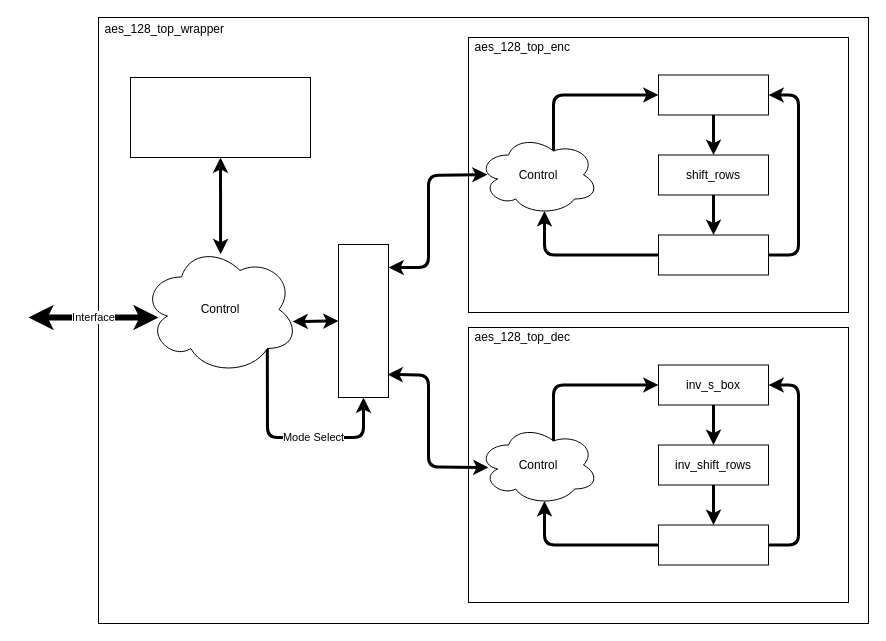
This 886x641 diagram has some shape labels left out. The centre of each missing label's shape, as x and y in pixels:
"inv_mix_columns" goes at (713,544).
"key_expansion" goes at (220,117).
"mix_columns" goes at (713,254).
"Mux" goes at (363,321).
"s_box" goes at (713,94).
